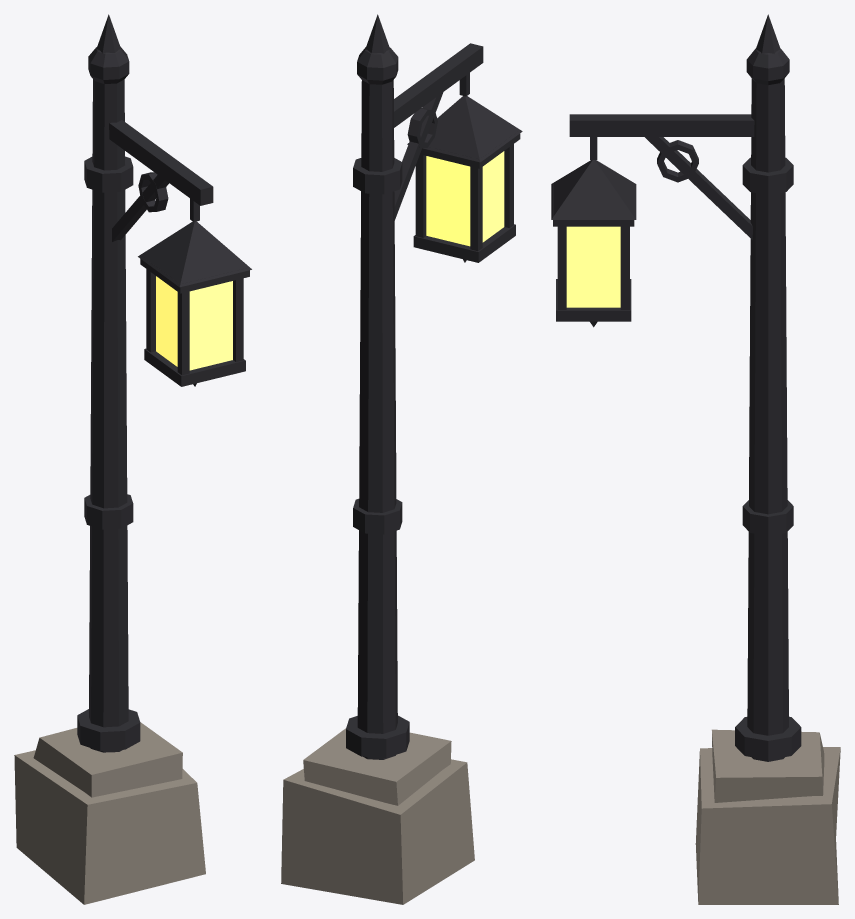
File: lamp_post.glb
3 views of the same model, side by side, from view 1: azimuth 30°, elevation 25°; view 2: azimuth 150°, elevation 25°; view 3: azimuth 270°, elevation 25° (orthographic).
Parts seen in each view (by area): view 1: lamp_post; view 2: lamp_post; view 3: lamp_post.
Boxes of the visible parts, <box> form: lamp_post: <box>14,14,251,904</box>; lamp_post: <box>281,14,522,904</box>; lamp_post: <box>551,14,840,904</box>.
Size of the model in its own units: 0.4783 by 3.16 by 0.9627.
